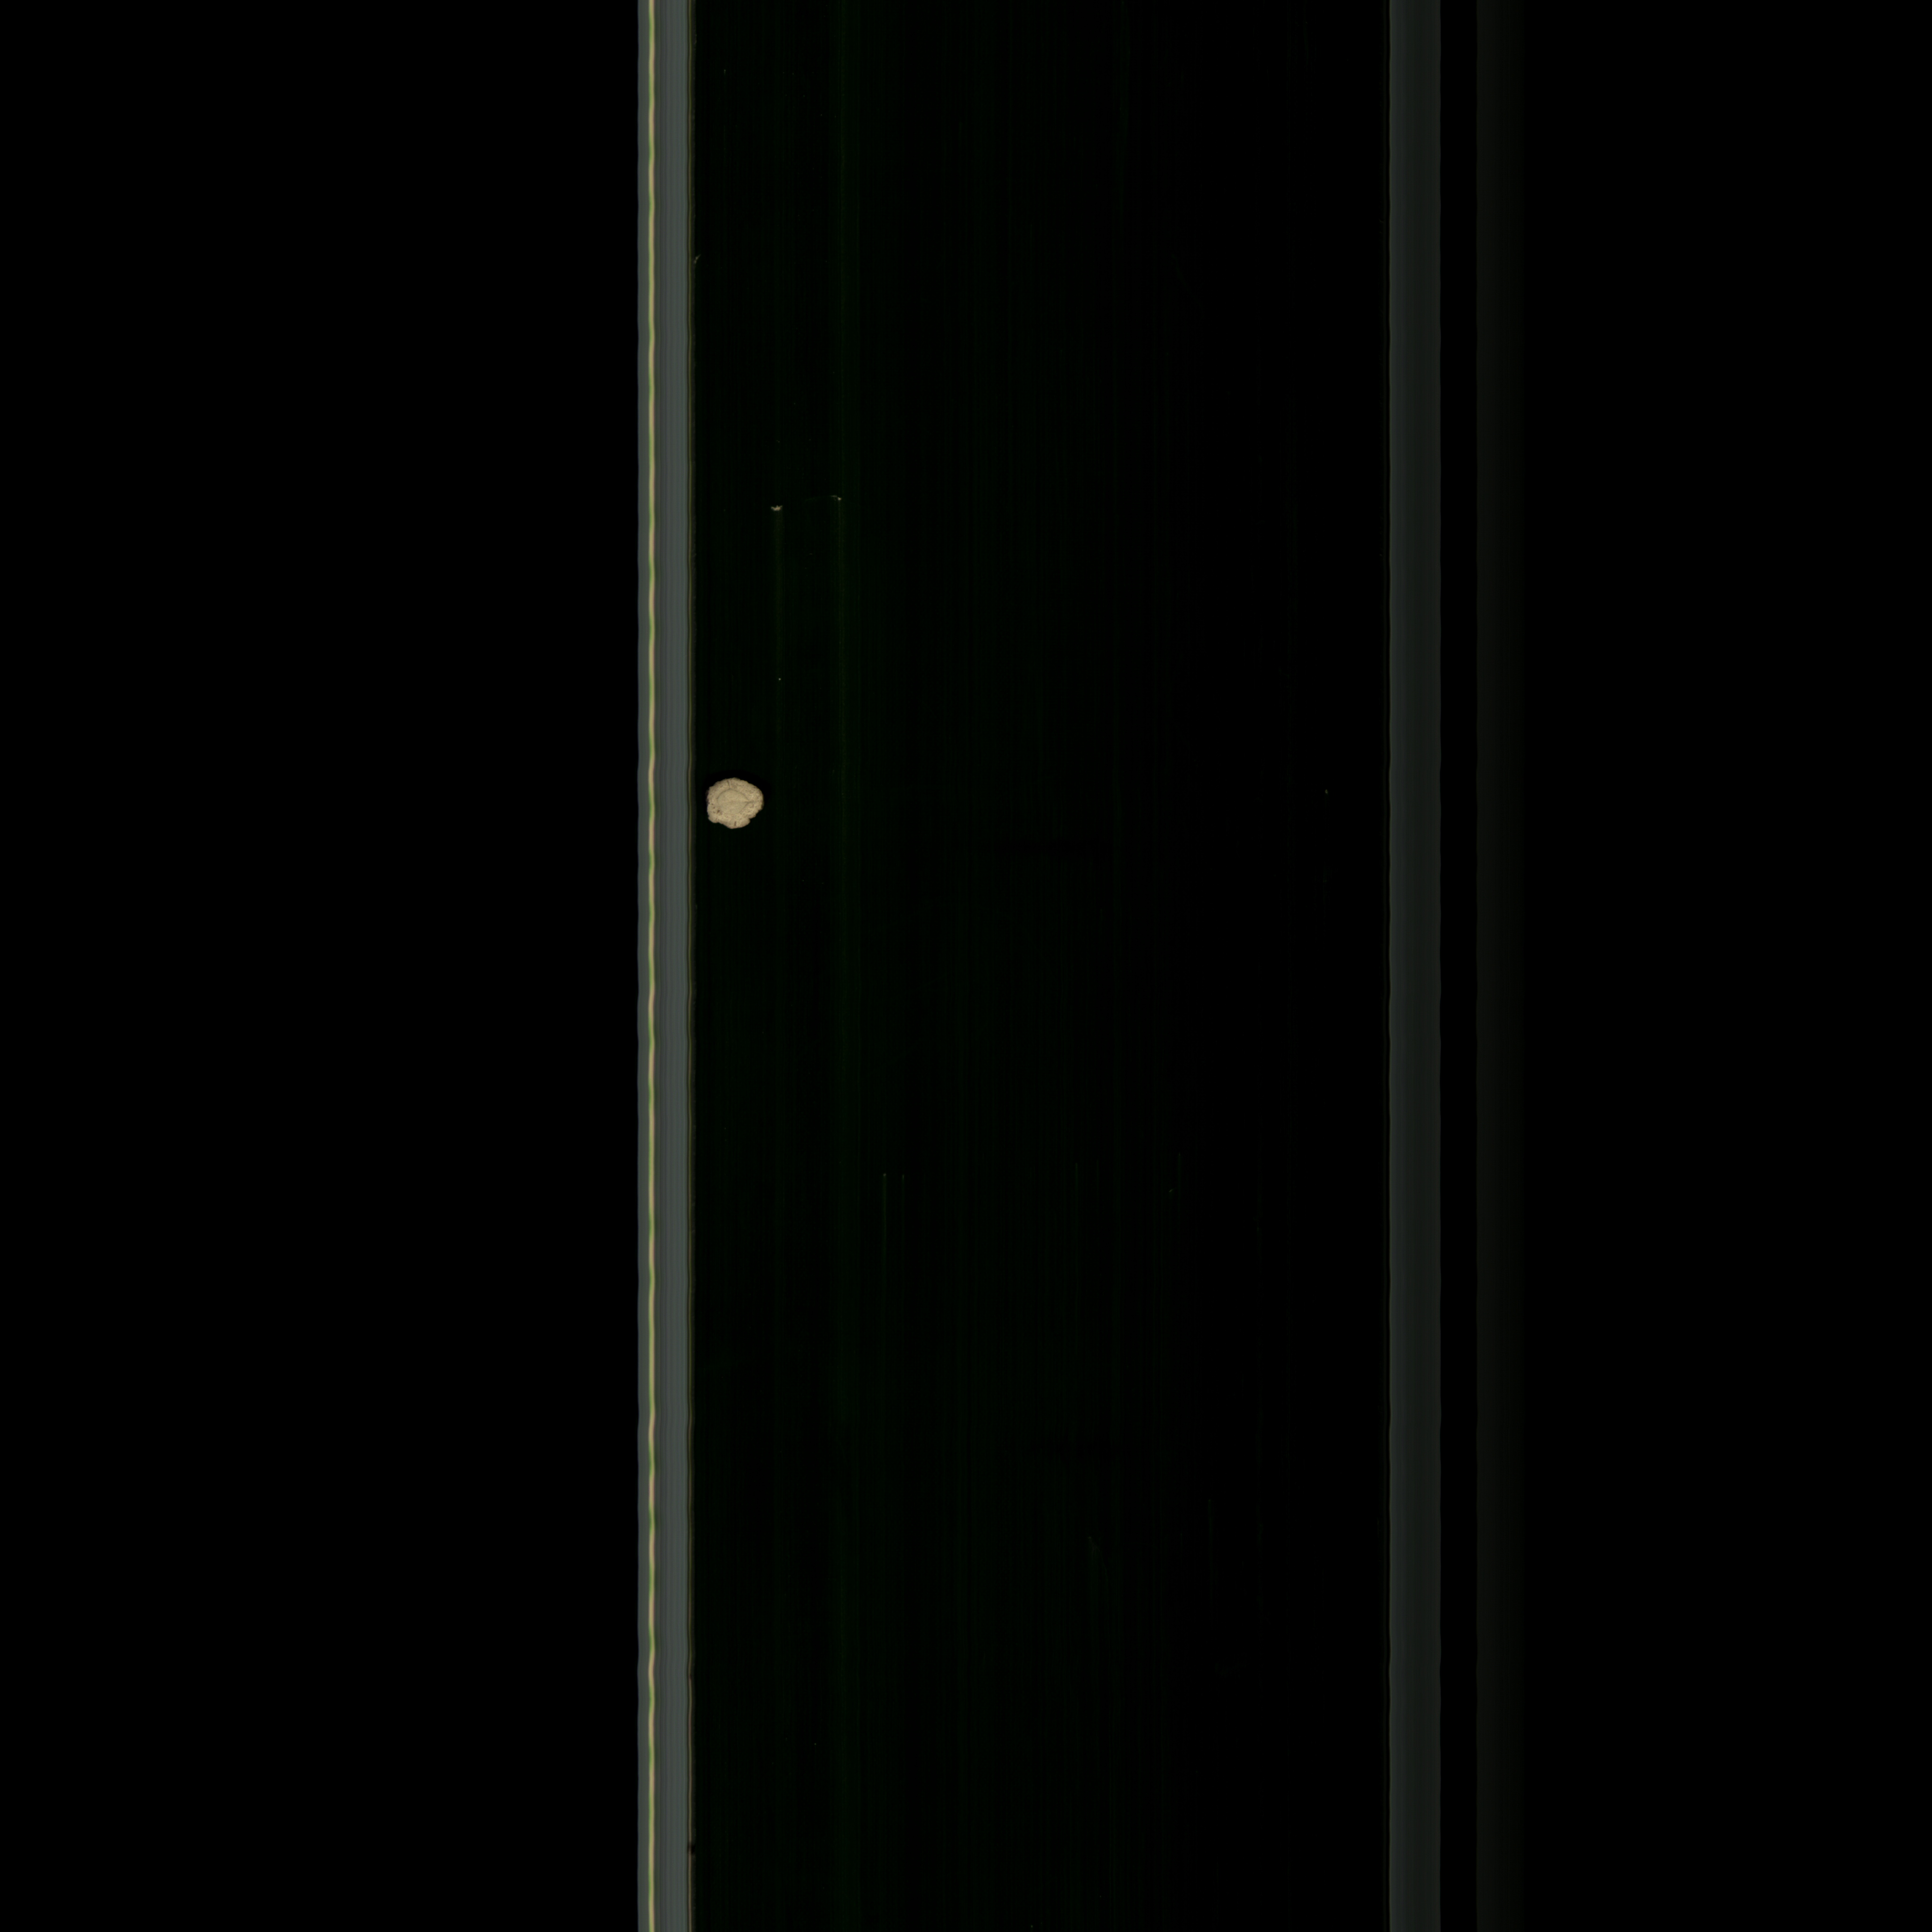moldy: (701, 777, 766, 833)
